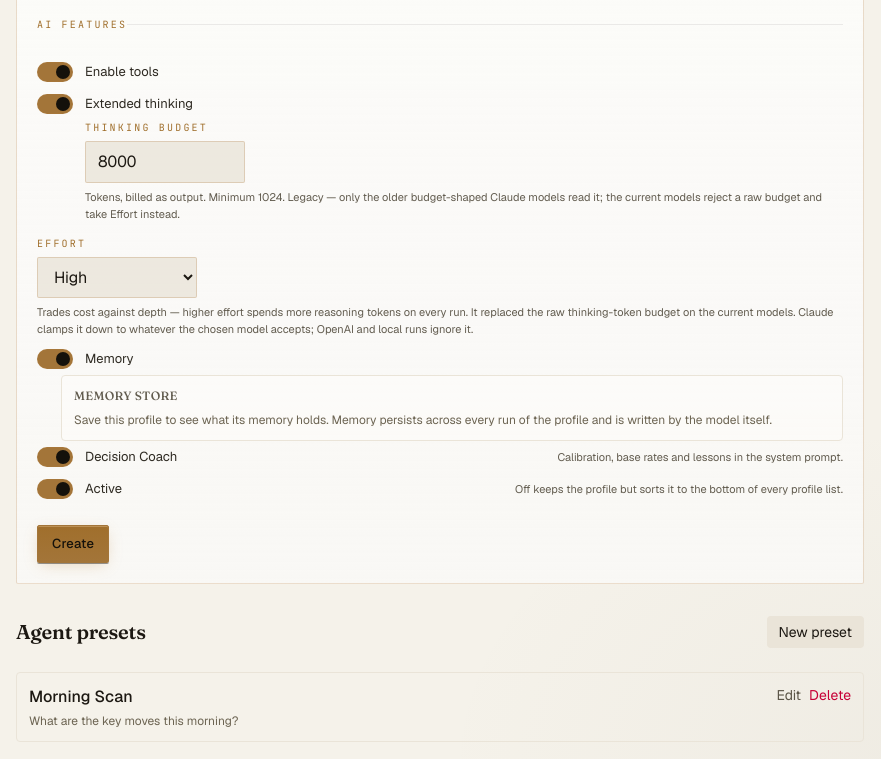
ProfilesPage – preset management › clicking Edit on a preset populates the preset form
The width and height of the screenshot is (881, 759).
(page scrolled)
Click the button "Edit" at point(789, 694), box left=776, top=684, right=801, bottom=704
(page scrolled)
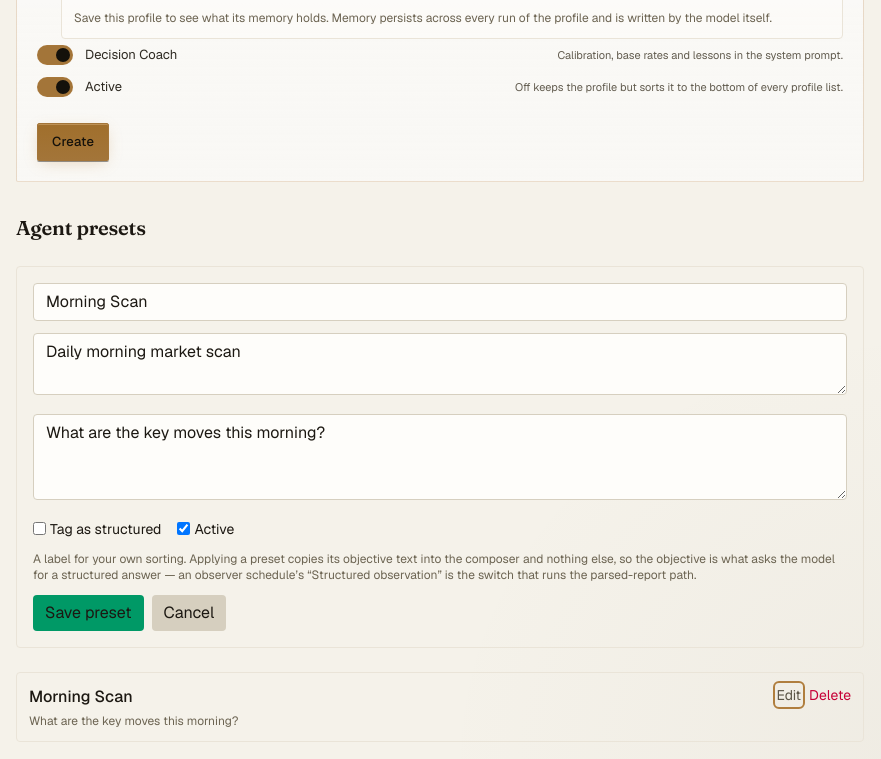
Now the field with placeholder "Preset name" holds "Morning Scan", box left=33, top=282, right=847, bottom=320
Now the button "Save preset" is shown, box left=33, top=594, right=144, bottom=630
